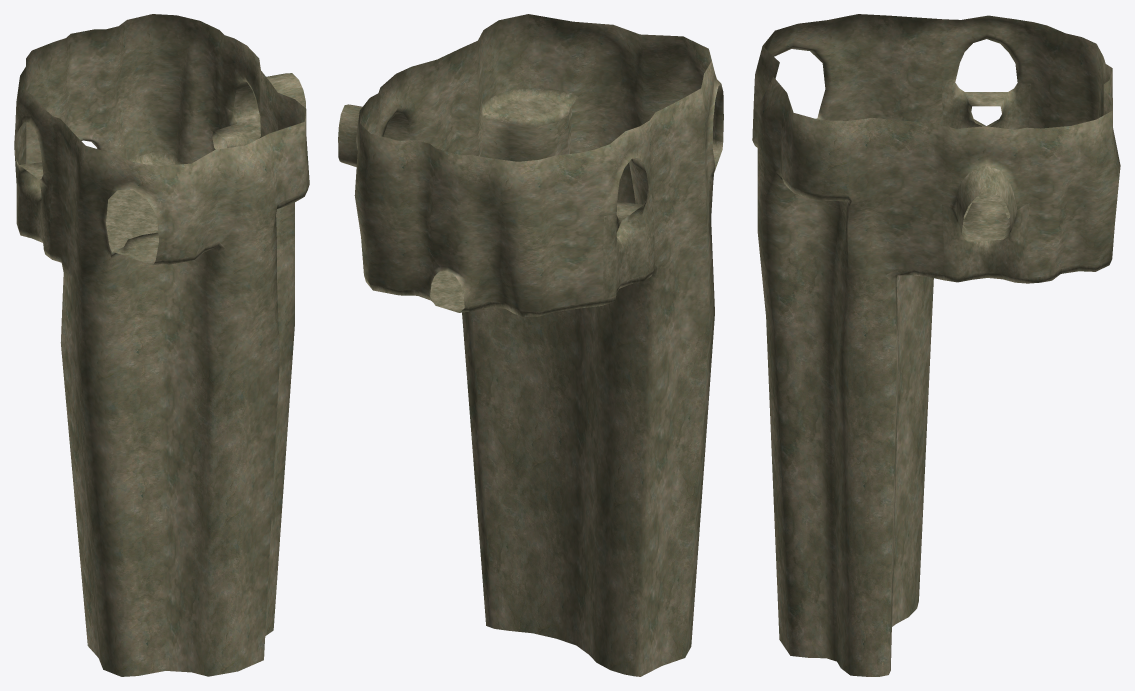
The model's file is OVERHILL_A_01_CANYON_CAVE.fbx.
The picture shows the model from 3 angles, left to right: view 1: azimuth 30°, elevation 25°; view 2: azimuth 150°, elevation 25°; view 3: azimuth 270°, elevation 25°; orthographic projection. The views are drawn at different scales.
Visible parts, largest first — view 1: OVERHILL_A_01_CANYON_CAVE; view 2: OVERHILL_A_01_CANYON_CAVE; view 3: OVERHILL_A_01_CANYON_CAVE.
Boxes of the visible parts, left/top/right/bottom form: OVERHILL_A_01_CANYON_CAVE: left=14, top=14, right=309, bottom=676; OVERHILL_A_01_CANYON_CAVE: left=338, top=14, right=723, bottom=676; OVERHILL_A_01_CANYON_CAVE: left=752, top=14, right=1120, bottom=676.
Size of the model in its own units: 185283 by 341074 by 200184.
Materials: 1 (1 with a texture image).
